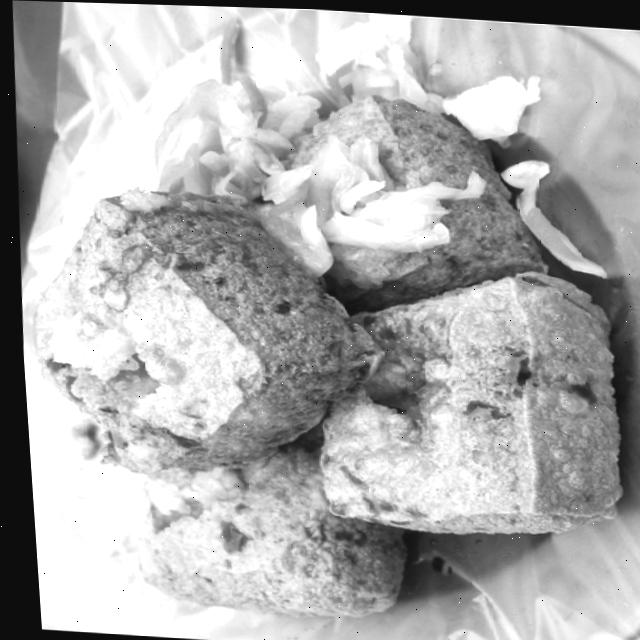豆腐料理: (0, 8, 640, 640)
